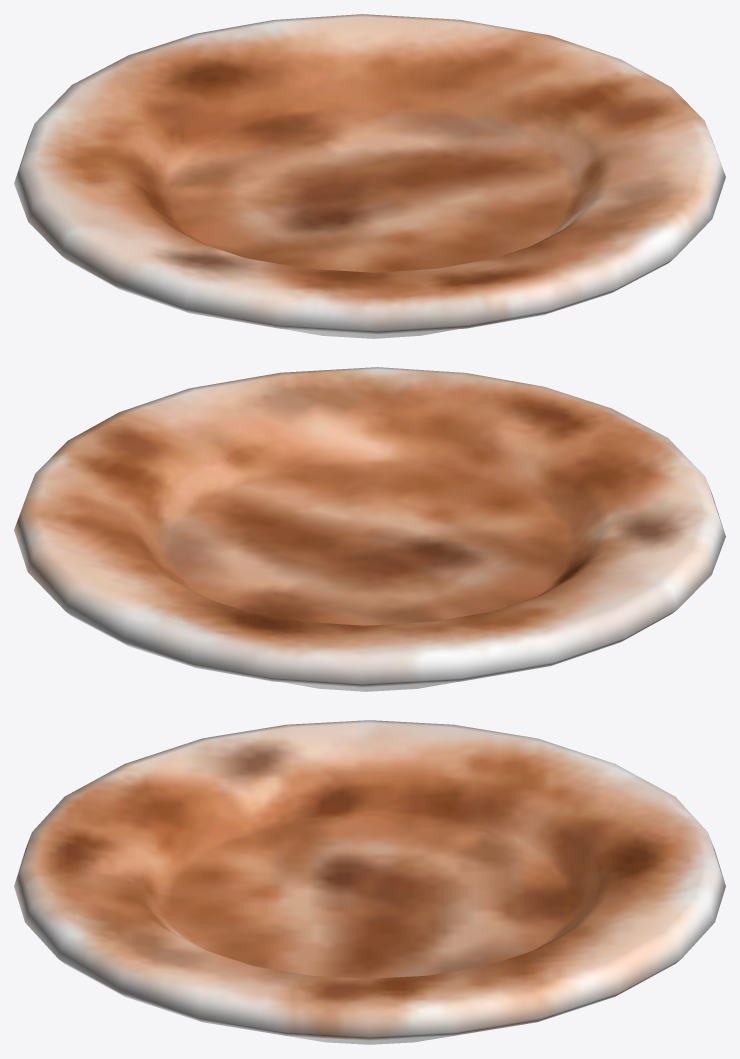
The model's file is Dirty_Plate.fbx.
The picture shows the model from 3 angles, top to bottom: view 1: azimuth 30°, elevation 25°; view 2: azimuth 150°, elevation 25°; view 3: azimuth 270°, elevation 25°; orthographic projection.
Visible parts, largest first — view 1: m_sk_plate_02; view 2: m_sk_plate_02; view 3: m_sk_plate_02.
Part boxes in pixels (box(x1,y1,x2,y2)): m_sk_plate_02: box(14, 14, 725, 338); m_sk_plate_02: box(14, 367, 725, 691); m_sk_plate_02: box(14, 720, 725, 1044).
Size of the model in its own units: 99.79 by 16.37 by 99.79.
